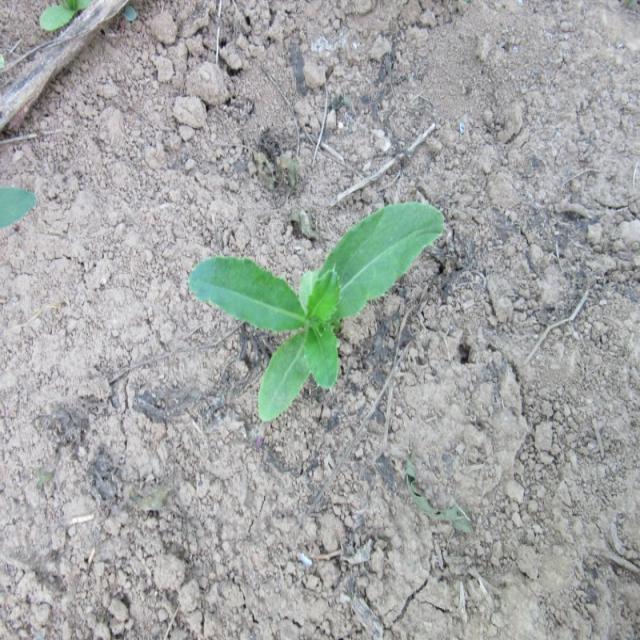cs: (186, 199, 445, 424)
